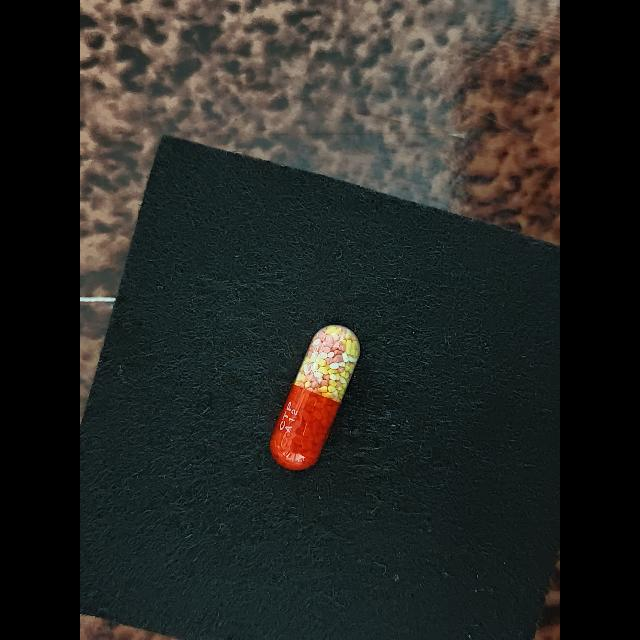Intact Capsule: (270, 325, 360, 470)
